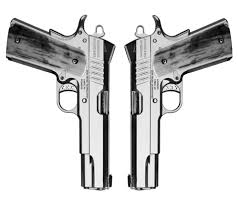gun: (124, 10, 234, 196), (7, 10, 118, 192)
